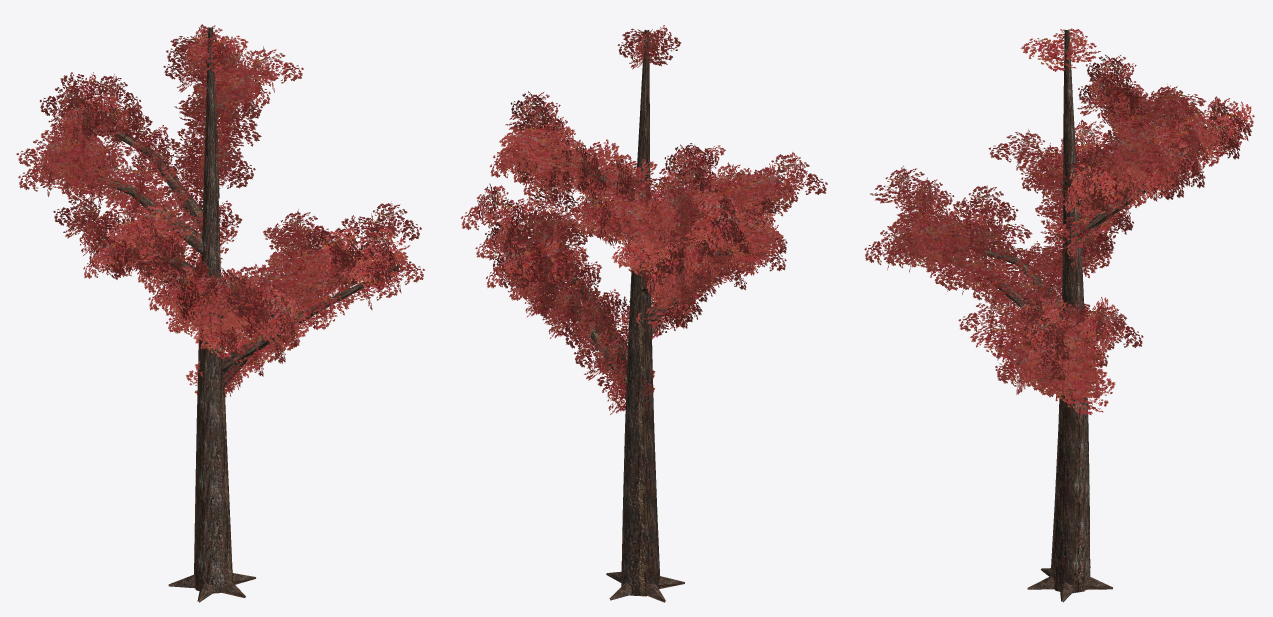
The model's file is tree_3d_01_red_lod1.glb.
3 renders of one model, left to right at view 1: azimuth 30°, elevation 25°; view 2: azimuth 150°, elevation 25°; view 3: azimuth 270°, elevation 25°, orthographic.
Parts seen in each view (by area): view 1: foliage_cards, wood_geometry; view 2: foliage_cards, wood_geometry; view 3: foliage_cards, wood_geometry.
Part boxes in pixels (box(x1,y1,x2,y2)): foliage_cards: box(16, 24, 424, 396); wood_geometry: box(87, 27, 400, 602); foliage_cards: box(461, 25, 827, 414); wood_geometry: box(522, 30, 759, 602); foliage_cards: box(864, 28, 1254, 415); wood_geometry: box(905, 29, 1216, 602).
Size of the model in its own units: 6.63 by 10.07 by 6.51.
2 materials, 2 textured.
